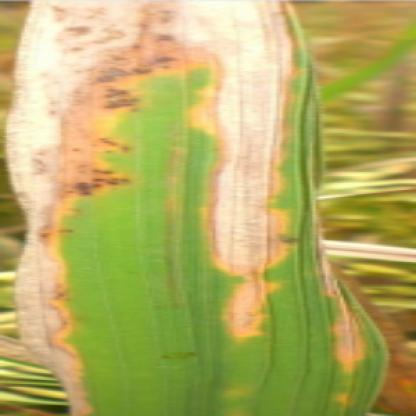Blight: (1, 1, 314, 416)
